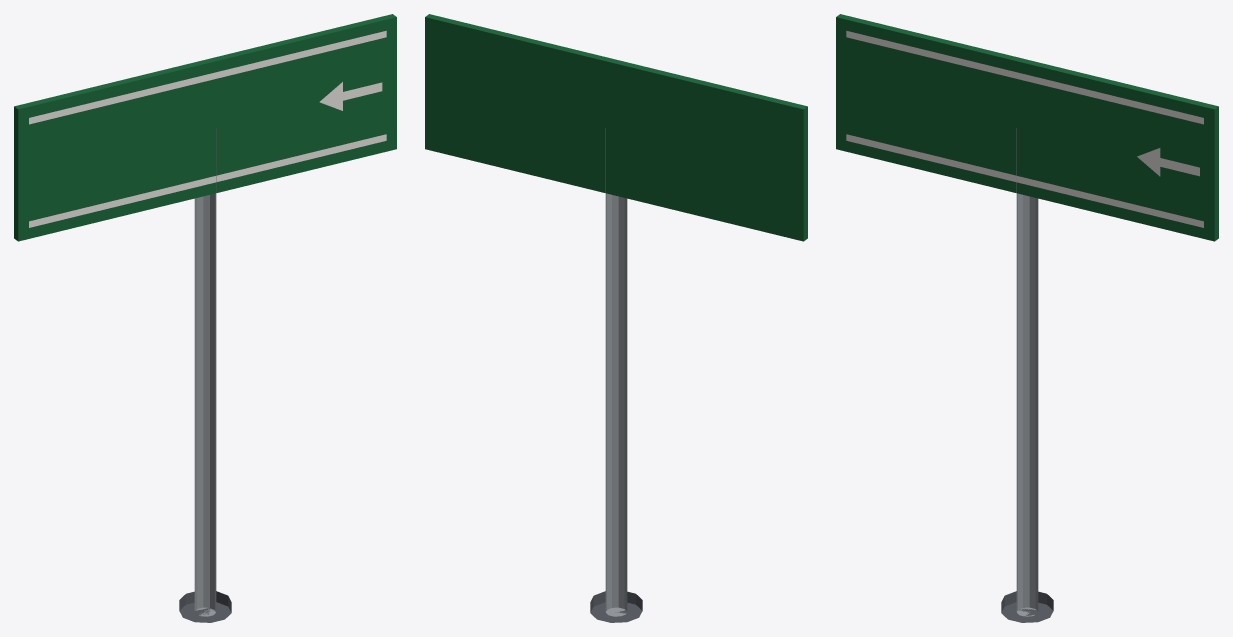
The model's file is sign-route.glb.
The picture shows the model from 3 angles, left to right: view 1: azimuth 30°, elevation 25°; view 2: azimuth 150°, elevation 25°; view 3: azimuth 330°, elevation 25°; orthographic projection.
Parts seen in each view (by area): view 1: sign-route; view 2: sign-route; view 3: sign-route.
Part boxes in pixels (x1,y1,x2,y2): sign-route: [14, 14, 396, 622]; sign-route: [425, 14, 807, 622]; sign-route: [836, 14, 1218, 622].
Bounding box in the file's own units: 1.8 × 2.5 × 0.2054.
